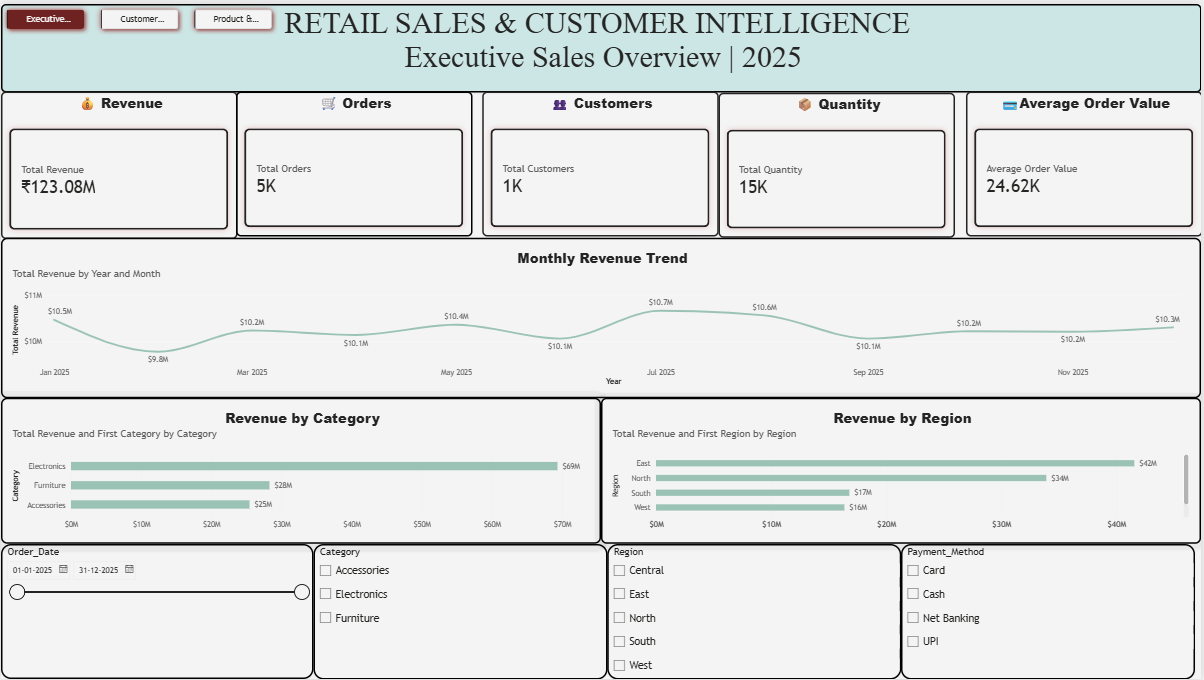

This screenshot's page, from the dashboard's own definition file:
{"tool":"powerbi","page":{"name":"Executive Overview","canvas":[1920,1080],"ordinal":0},"visuals":[{"type":"textbox","box":[10,0,280,280],"z":0},{"type":"textbox","box":[0,0,1920.7,141.6],"z":1000},{"type":"cardVisual","title":"💰 Revenue","fields":{"Data":["retail_analytics sales.Total Revenue"]},"box":[0,140,378,236],"z":2000},{"type":"cardVisual","title":"🛒 Orders","fields":{"Data":["retail_analytics sales.Total Orders"]},"box":[376.7,140,378,232],"z":3000},{"type":"cardVisual","title":"👥 Customers","fields":{"Data":["retail_analytics sales.Total Customers"]},"box":[770,140,378,232],"z":4000},{"type":"cardVisual","title":"📦 Quantity","fields":{"Data":["retail_analytics sales.Total Quantity"]},"box":[1148,142,378,232],"z":5000},{"type":"cardVisual","title":"💳Average Order Value","fields":{"Data":["retail_analytics sales.Average Order Value"]},"box":[1543.3,140,378,232],"z":6000},{"type":"lineChart","title":"Monthly Revenue Trend","fields":{"Category":["retail_analytics sales.Order_Date.Variation.Date Hierarchy.Year","retail_analytics sales.Order_Date.Variation.Date Hierarchy.Month"],"Y":["retail_analytics sales.Total Revenue"]},"box":[0,373.3,1920,256.7],"z":7000},{"type":"clusteredBarChart","title":"Revenue by Category","fields":{"Category":["retail_analytics sales.Category"],"Y":["retail_analytics sales.Total Revenue"]},"box":[0,630,960,233.3],"z":8000},{"type":"clusteredBarChart","title":"Revenue by Region","fields":{"Category":["retail_analytics sales.Region"],"Y":["retail_analytics sales.Total Revenue"]},"box":[960,630,960,233.3],"z":9000},{"type":"slicer","fields":{"Values":["retail_analytics sales.Order_Date"]},"box":[0,864,500,216],"z":10000},{"type":"slicer","fields":{"Values":["retail_analytics sales.Category"]},"box":[500,863.3,470,216.7],"z":11000},{"type":"slicer","fields":{"Values":["retail_analytics sales.Region"]},"box":[970,863.3,470,216.7],"z":12000},{"type":"slicer","fields":{"Values":["retail_analytics sales.Payment_Method"]},"box":[1440,863.3,470,216.7],"z":13000},{"type":"pageNavigator","box":[0,0,444.4,49.2],"z":13001}]}

Visuals, with their boxes in screenshot pixels (x1, y1, x2, y2), scaled from the page's 1920x1080 canvas onto the 1204x680 screenshot:
textbox: <region>6, 0, 182, 176</region>
textbox: <region>0, 0, 1203, 89</region>
"💰 Revenue" cardVisual: <region>0, 88, 237, 237</region>
"🛒 Orders" cardVisual: <region>236, 88, 473, 234</region>
"👥 Customers" cardVisual: <region>483, 88, 720, 234</region>
"📦 Quantity" cardVisual: <region>720, 89, 957, 235</region>
"💳Average Order Value" cardVisual: <region>968, 88, 1203, 234</region>
"Monthly Revenue Trend" lineChart: <region>0, 235, 1203, 397</region>
"Revenue by Category" clusteredBarChart: <region>0, 397, 602, 544</region>
"Revenue by Region" clusteredBarChart: <region>602, 397, 1203, 544</region>
slicer - retail_analytics sales.Order_Date: <region>0, 544, 314, 679</region>
slicer - retail_analytics sales.Category: <region>314, 544, 608, 679</region>
slicer - retail_analytics sales.Region: <region>608, 544, 903, 679</region>
slicer - retail_analytics sales.Payment_Method: <region>903, 544, 1198, 679</region>
pageNavigator: <region>0, 0, 279, 31</region>
